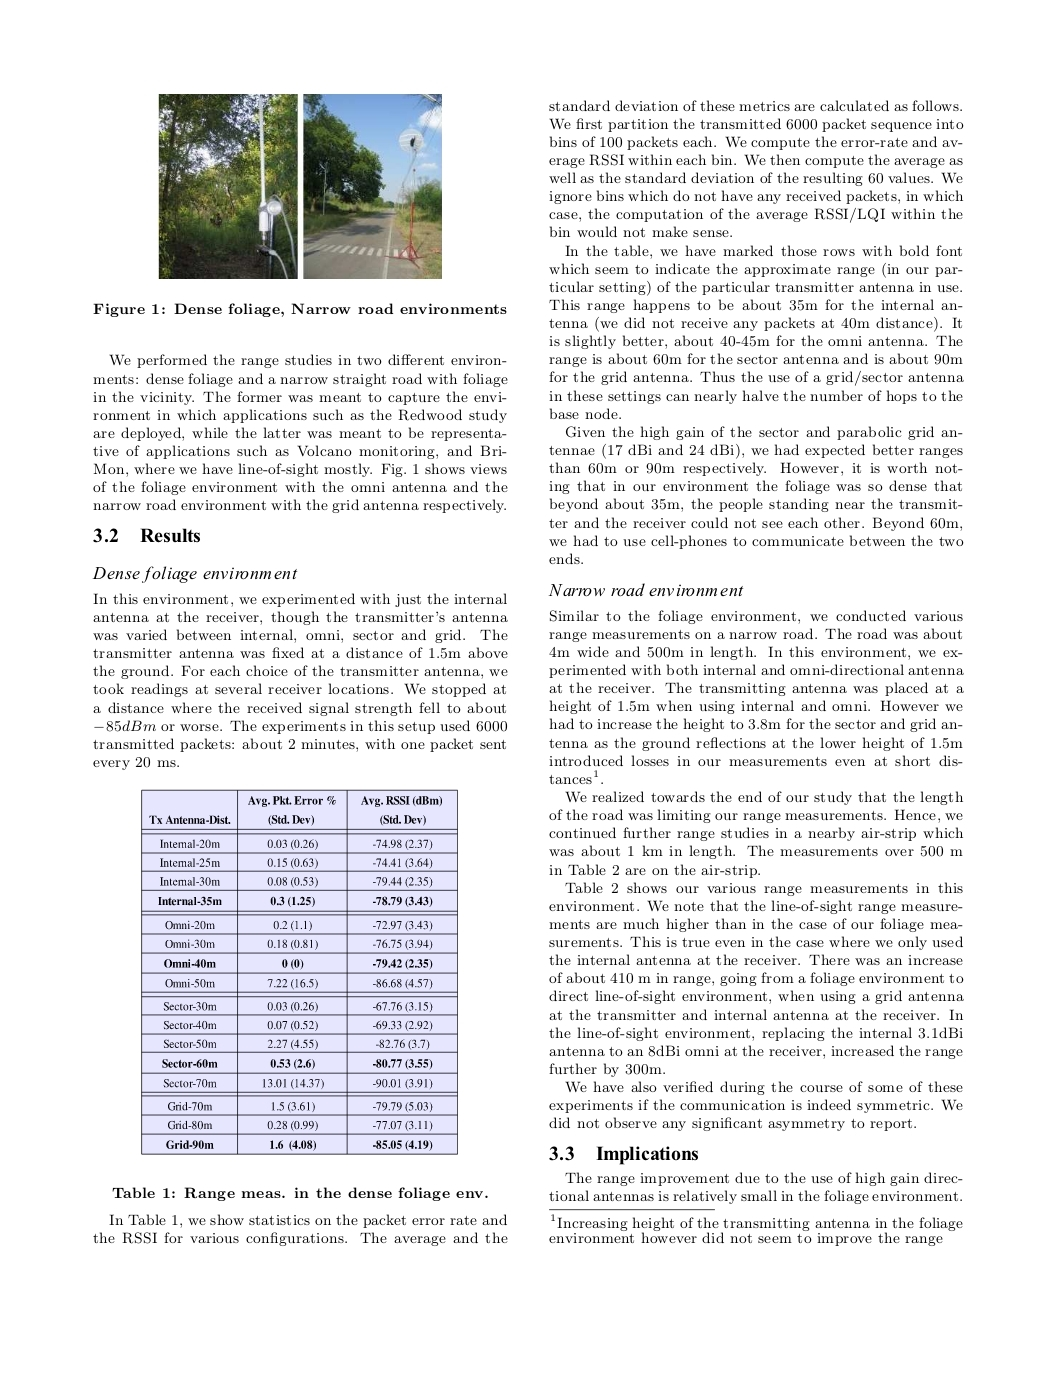Table: (142, 788, 457, 1155)
figure: (158, 92, 441, 279)
